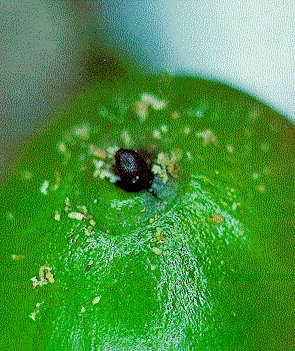broca de cafe: (34, 41, 261, 335)
